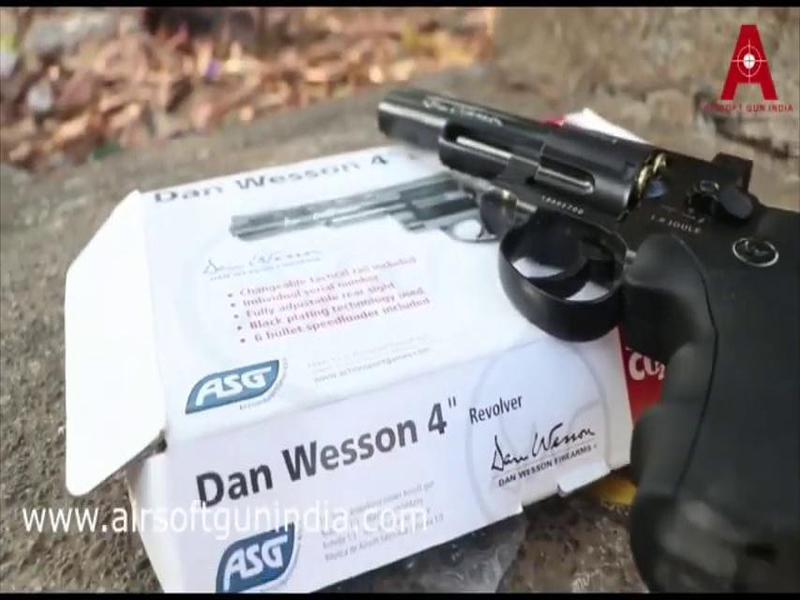Revolver: (347, 62, 799, 535)
